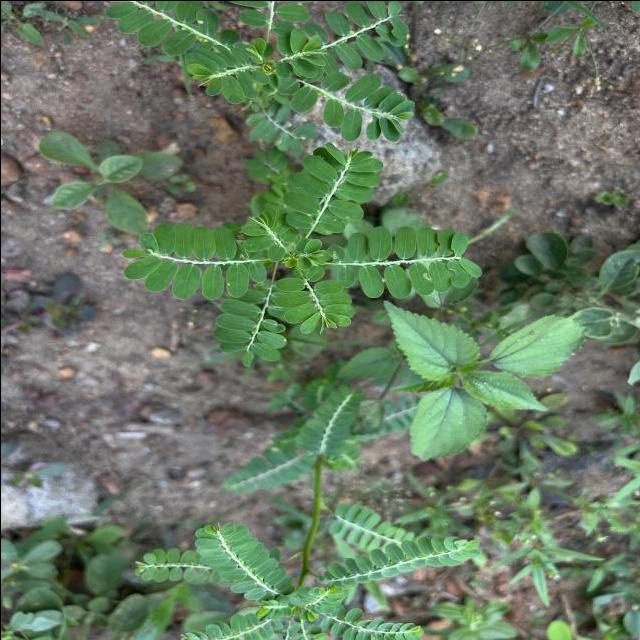Phyllanthus niruri: (328, 223, 486, 300), (119, 220, 271, 300), (278, 74, 417, 144), (281, 140, 384, 233), (189, 520, 300, 604), (318, 534, 481, 586), (299, 0, 409, 76), (103, 0, 230, 56), (210, 286, 290, 368), (272, 266, 354, 335), (182, 43, 272, 105), (240, 208, 298, 261)
